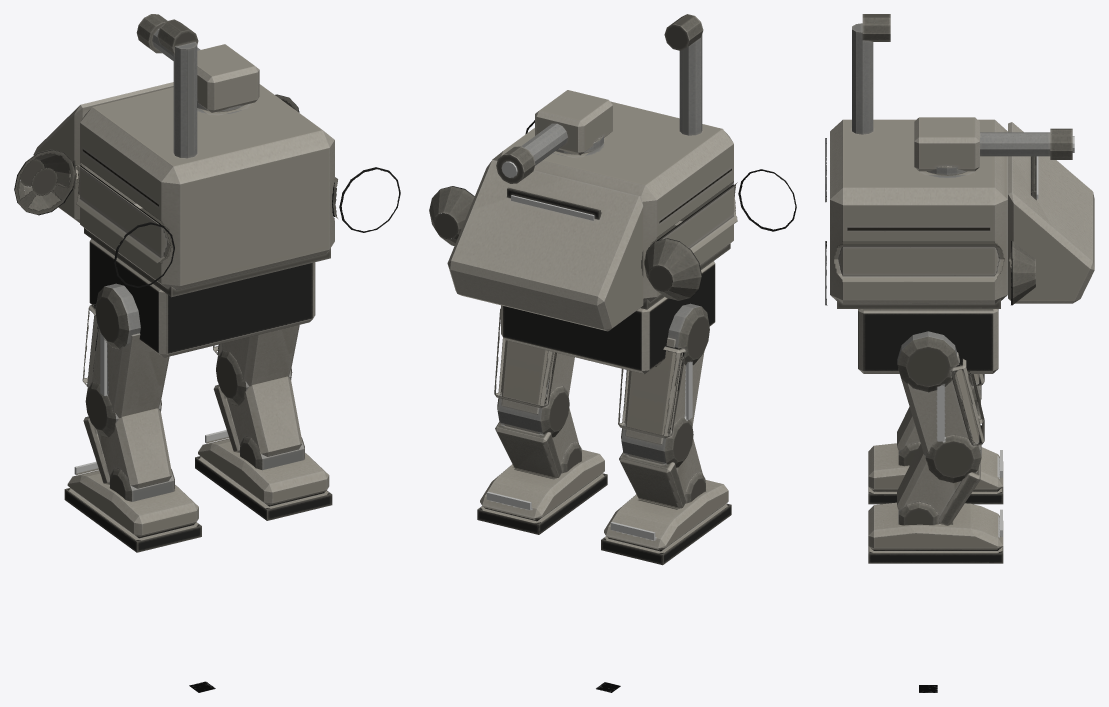
File: ord_mariner.fbx
The picture shows the model from 3 angles, left to right: view 1: azimuth 30°, elevation 25°; view 2: azimuth 150°, elevation 25°; view 3: azimuth 270°, elevation 25°; orthographic projection. The views are drawn at different scales.
Parts seen in each view (by area): view 1: torso_bar, base_bar, thighL_bar, footR_bar, footL_bar, shinL_bar, shinR_bar, thighR_bar; view 2: torso_bar, thighL_bar, base_bar, thighR_bar, footL_bar, footR_bar, shinR_bar, shinL_bar; view 3: torso_bar, thighR_bar, base_bar, footR_bar, shinR_bar, footL_bar, shinL_bar, thighR_glow_running_bar.
Boxes of the visible parts, x1,y1,x2,y2 form: torso_bar: (14,14,400,297); base_bar: (89,239,315,357); thighL_bar: (82,283,169,437); footR_bar: (195,438,332,520); footL_bar: (64,470,201,552); shinL_bar: (83,408,174,501); shinR_bar: (213,376,304,470); thighR_bar: (213,325,299,405); torso_bar: (429,14,796,331); thighL_bar: (618,303,709,467); base_bar: (501,261,715,374); thighR_bar: (494,308,574,437); footL_bar: (601,480,731,565); footR_bar: (477,449,607,534); shinR_bar: (495,408,581,478); shinL_bar: (619,438,705,508); torso_bar: (825,14,1094,308); thighR_bar: (897,331,984,482); base_bar: (858,309,998,373); footR_bar: (868,502,1003,563); shinR_bar: (897,444,980,525); footL_bar: (868,443,1003,504); shinL_bar: (897,401,980,465); thighR_glow_running_bar: (937,384,944,441).
Bounding box in the file's own units: 330 × 764 × 288.
2 materials, 2 textured.
